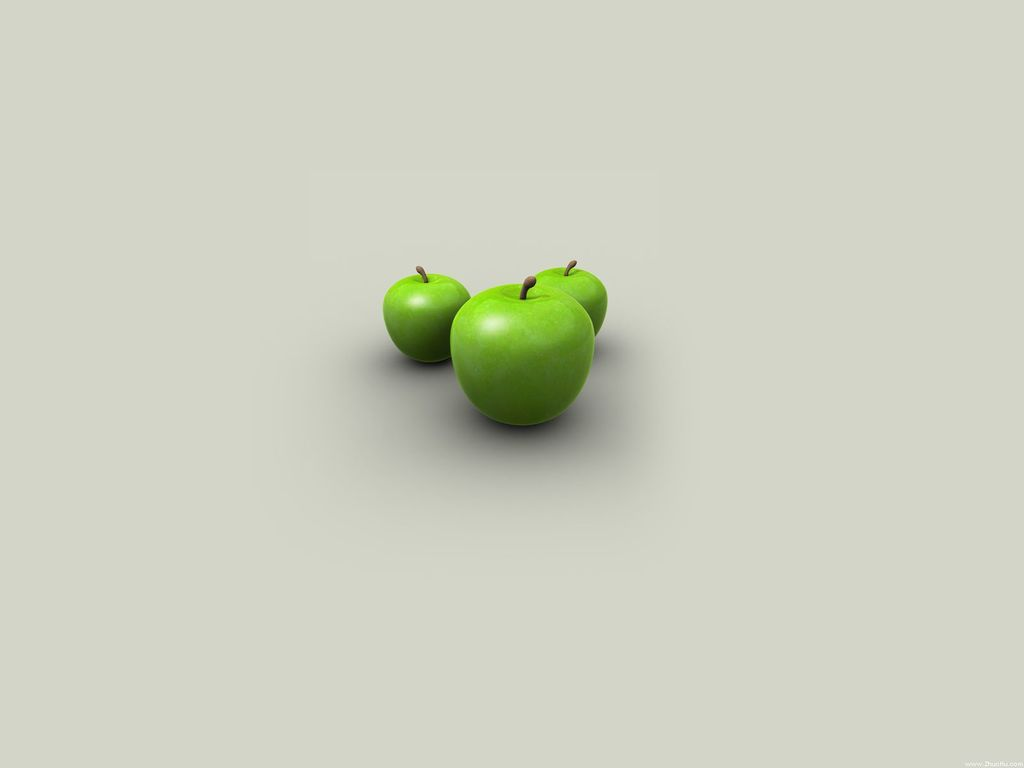Apple: (447, 256, 611, 431), (376, 264, 470, 361), (535, 254, 610, 330)
